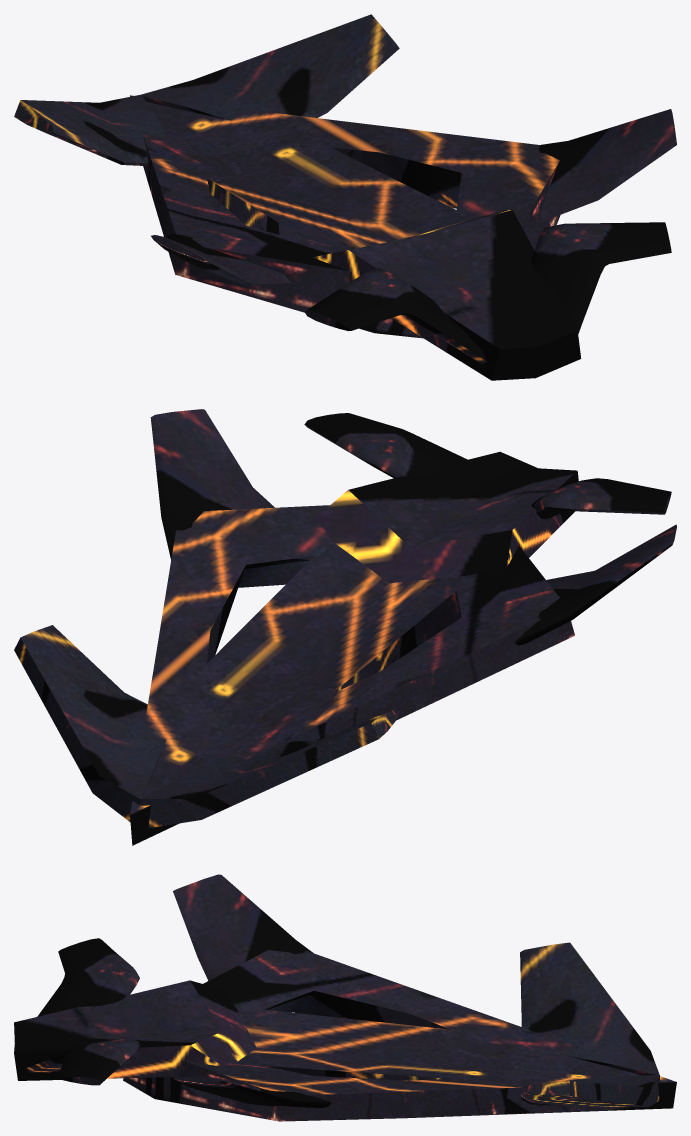
File: ship16e.fbx
3 renders of one model, top to bottom at view 1: azimuth 30°, elevation 25°; view 2: azimuth 150°, elevation 25°; view 3: azimuth 270°, elevation 25°, orthographic. The views are drawn at different scales.
Parts seen in each view (by area): view 1: PipelineFBX; view 2: PipelineFBX; view 3: PipelineFBX.
Part boxes in pixels (x1,y1,x2,y2): PipelineFBX: (14, 14, 676, 380); PipelineFBX: (14, 409, 676, 845); PipelineFBX: (14, 874, 676, 1121).
Size of the model in its own units: 363 by 111 by 494.
Materials: 1 (1 with a texture image).
